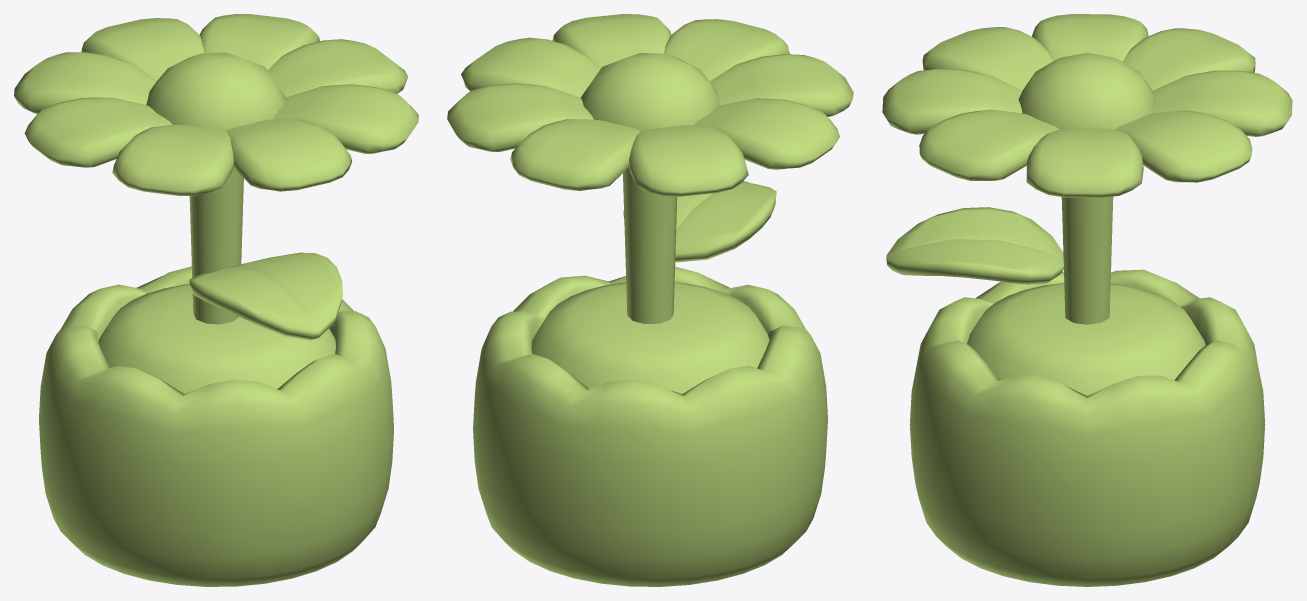
Rendered from T1_S_FlowerPot_Tx.fbx.
The picture shows the model from 3 angles, left to right: view 1: azimuth 30°, elevation 25°; view 2: azimuth 150°, elevation 25°; view 3: azimuth 270°, elevation 25°; orthographic projection.
Parts seen in each view (by area): view 1: T1_S_FlowerPot_Tx; view 2: T1_S_FlowerPot_Tx; view 3: T1_S_FlowerPot_Tx.
Boxes of the visible parts, x1=… form: T1_S_FlowerPot_Tx: x1=14, y1=14, x2=418, y2=586; T1_S_FlowerPot_Tx: x1=447, y1=14, x2=853, y2=586; T1_S_FlowerPot_Tx: x1=882, y1=14, x2=1292, y2=586.
Bounding box in the file's own units: 73.38 × 92.77 × 73.38.
